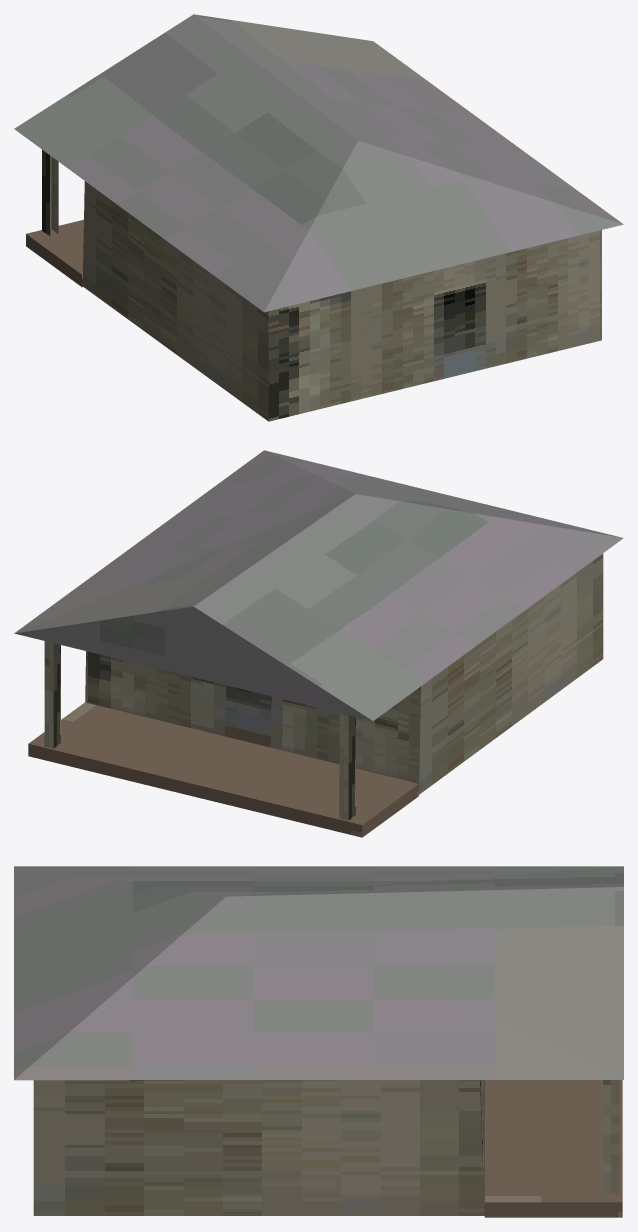
The model's file is lodpfukhouse2.obj.
3 renders of one model, top to bottom at view 1: azimuth 30°, elevation 25°; view 2: azimuth 150°, elevation 25°; view 3: azimuth 270°, elevation 25°, orthographic. The views are drawn at different scales.
Visible parts, largest first — view 1: LODpfukhouse2; view 2: LODpfukhouse2; view 3: LODpfukhouse2.
Boxes of the visible parts, x1,y1,x2,y2 form: LODpfukhouse2: [14, 14, 623, 421]; LODpfukhouse2: [14, 450, 623, 837]; LODpfukhouse2: [14, 866, 623, 1217].
Bounding box in the file's own units: 10.8 × 5.47 × 13.02.
1 material, 1 textured.
